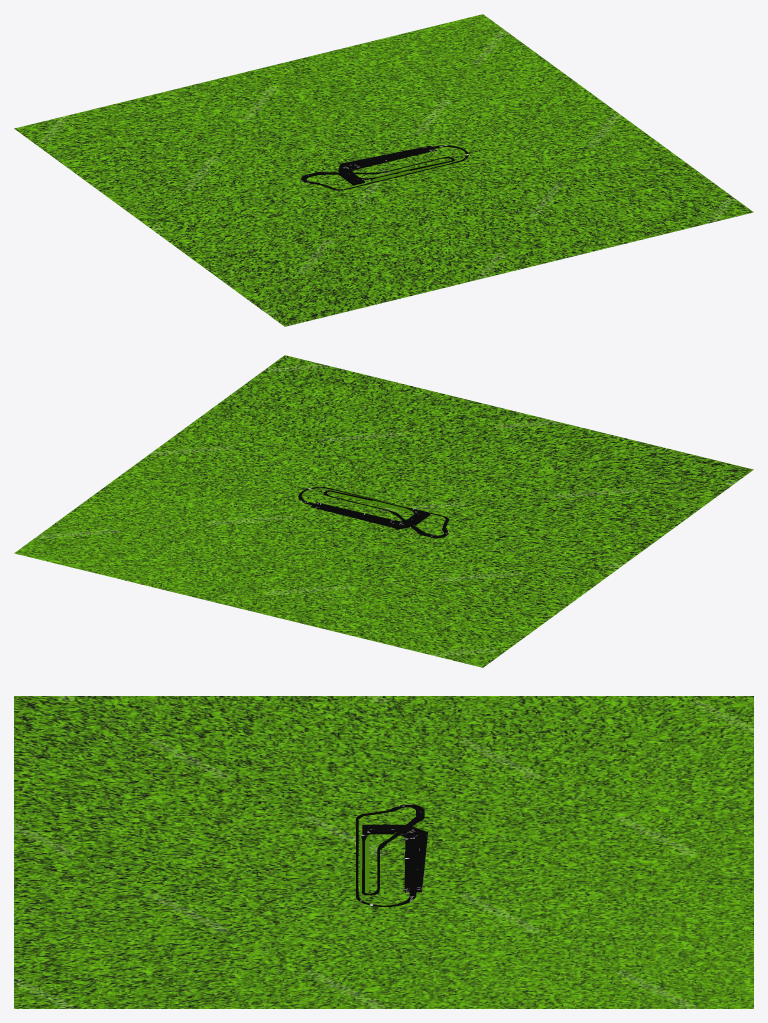
File: mHistoricV4.glb
3 renders of one model, top to bottom at view 1: azimuth 30°, elevation 25°; view 2: azimuth 150°, elevation 25°; view 3: azimuth 270°, elevation 25°, orthographic. The views are drawn at different scales.
Parts seen in each view (by area): view 1: materiales, track; view 2: materiales, track; view 3: materiales, track.
Part boxes in pixels (x1,y1,x2,y2): materiales: (14,14,753,326); track: (301,145,468,190); materiales: (14,355,753,667); track: (298,487,448,538); materiales: (14,696,753,1008); track: (356,804,427,907).
Size of what is drawn, in the model's own units: 4707 by 34.56 by 4707.
2 materials, 2 textured.
